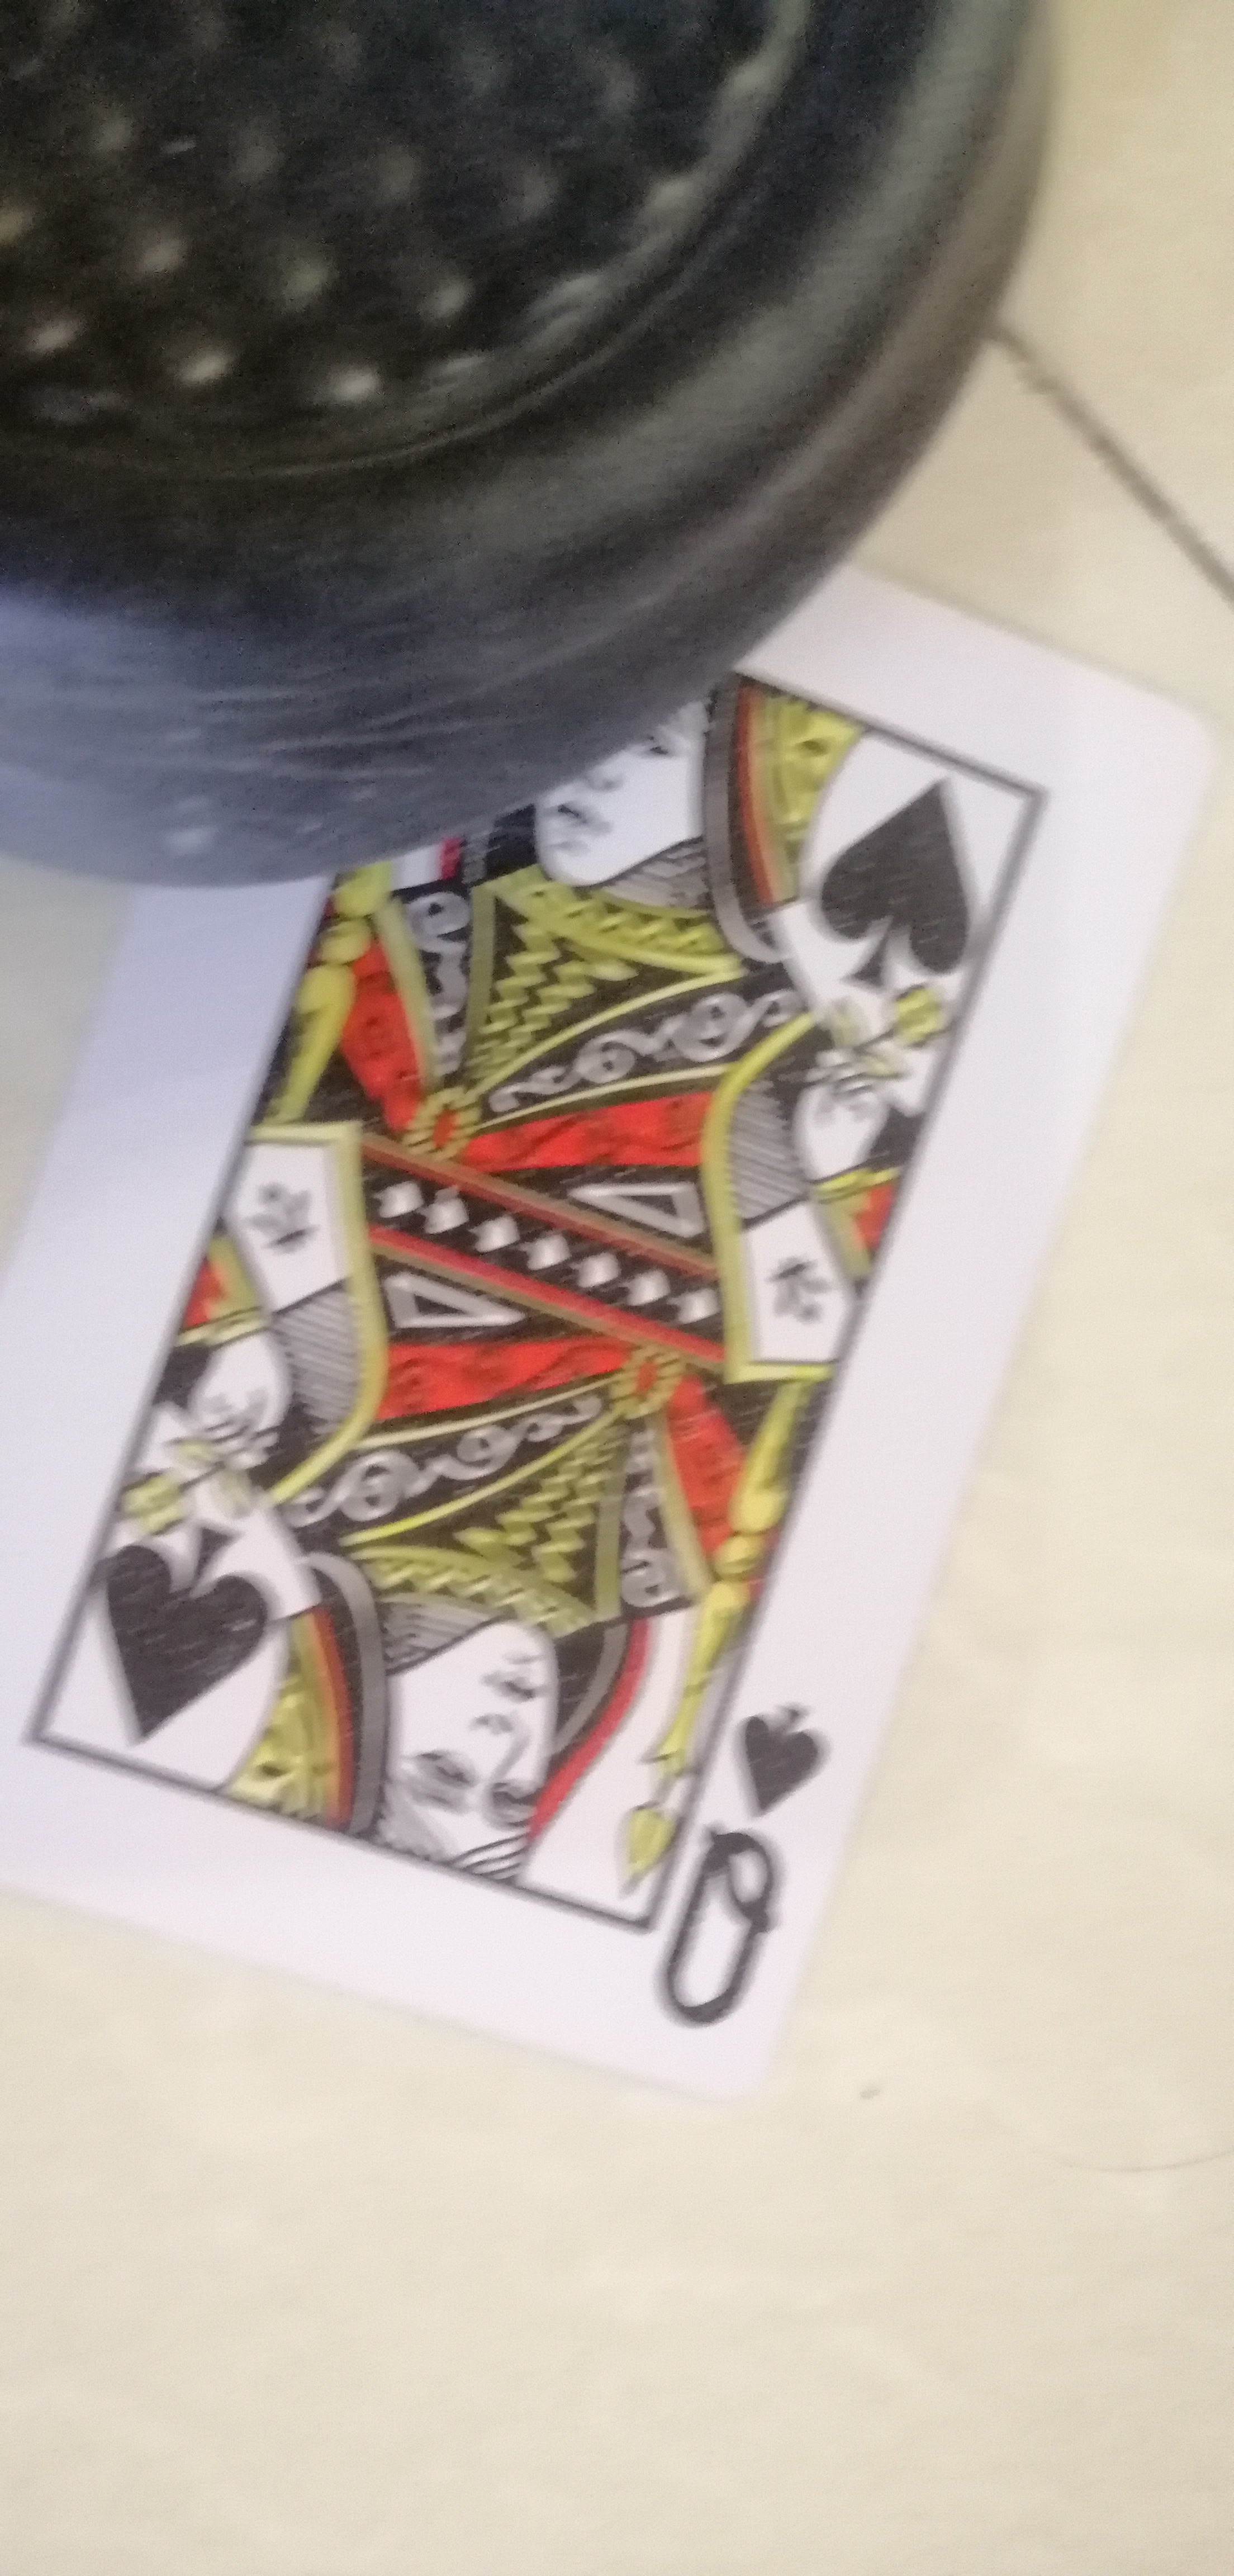queen: (38, 545, 1147, 2081)
